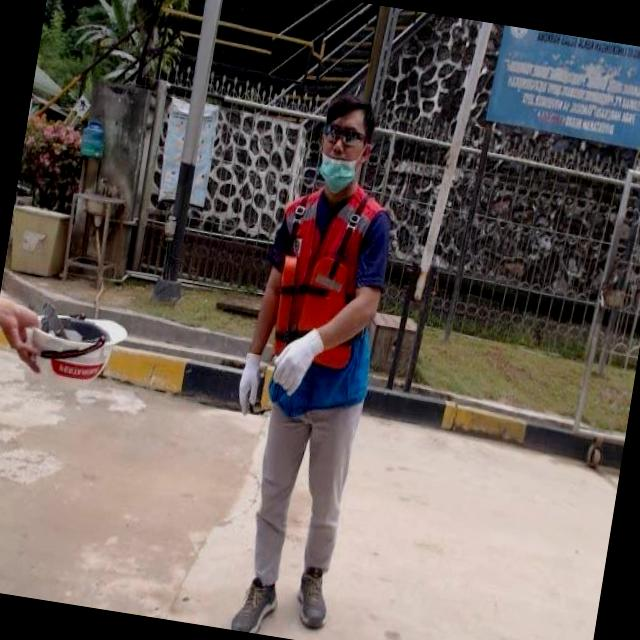vest: (256, 171, 398, 418)
